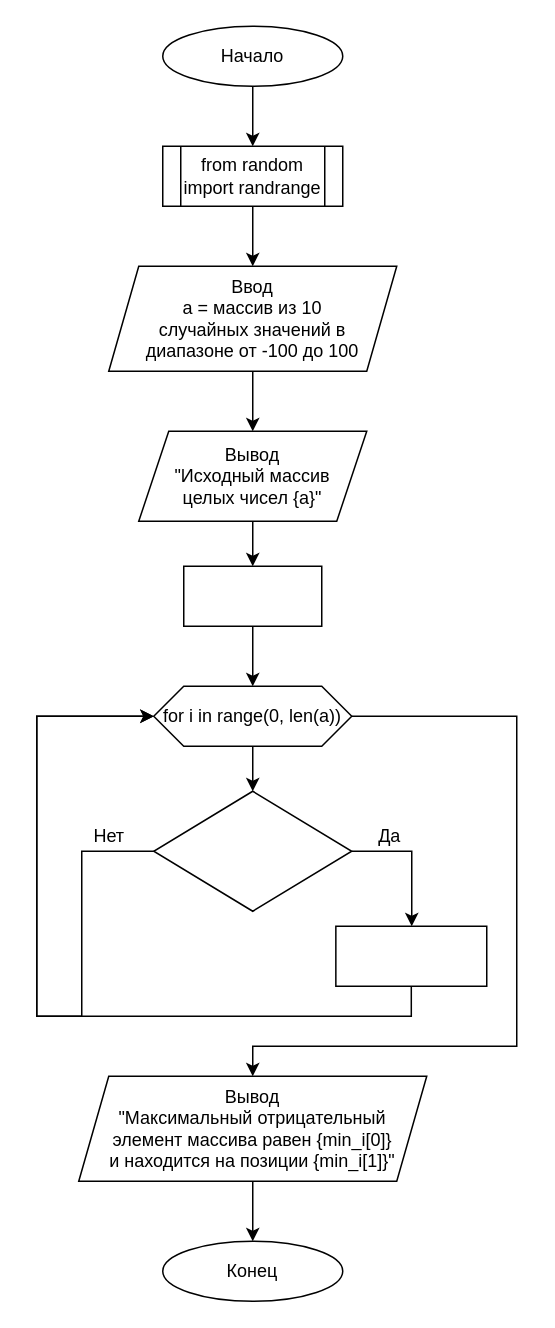
The diagram is 555 pixels wide and 1328 high, and some of its shapes have lost their labels. The shapes that lost their labels are listed below. From the top down, each one's centre as x and y in pixels, then its label:
At (x=252, y=595): "min_i = [a[0], 0]".
At (x=252, y=850): "min_i[0] > a[i] and a[i] < 0".
At (x=410, y=955): "min_i[0] = a[i] min_i[1] = i".
